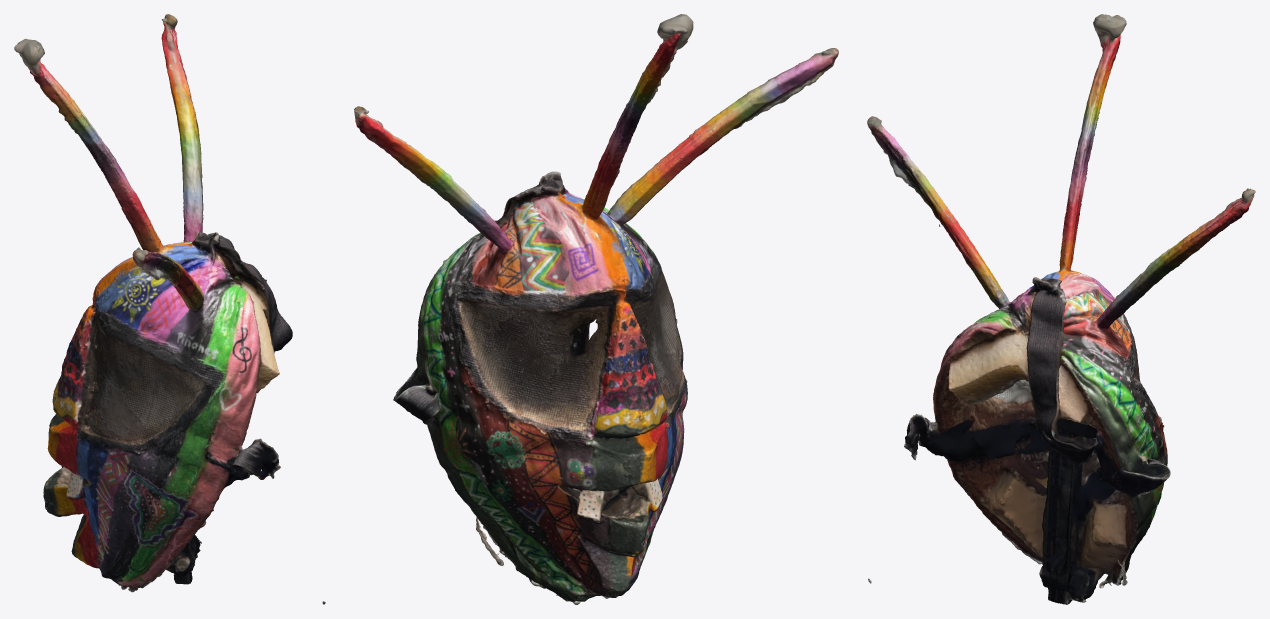
The model's file is vejigante-mask-3.glb.
3 renders of one model, left to right at view 1: azimuth 30°, elevation 25°; view 2: azimuth 150°, elevation 25°; view 3: azimuth 270°, elevation 25°, orthographic. The views are drawn at different scales.
Visible parts, largest first — view 1: 3DModel; view 2: 3DModel; view 3: 3DModel.
Part boxes in pixels (bbox=[...]): 3DModel: bbox=[14, 14, 325, 604]; 3DModel: bbox=[354, 14, 838, 604]; 3DModel: bbox=[867, 14, 1255, 604].
Bounding box in the file's own units: 1.6 × 3.32 × 2.22.
Materials: 1 (1 with a texture image).
